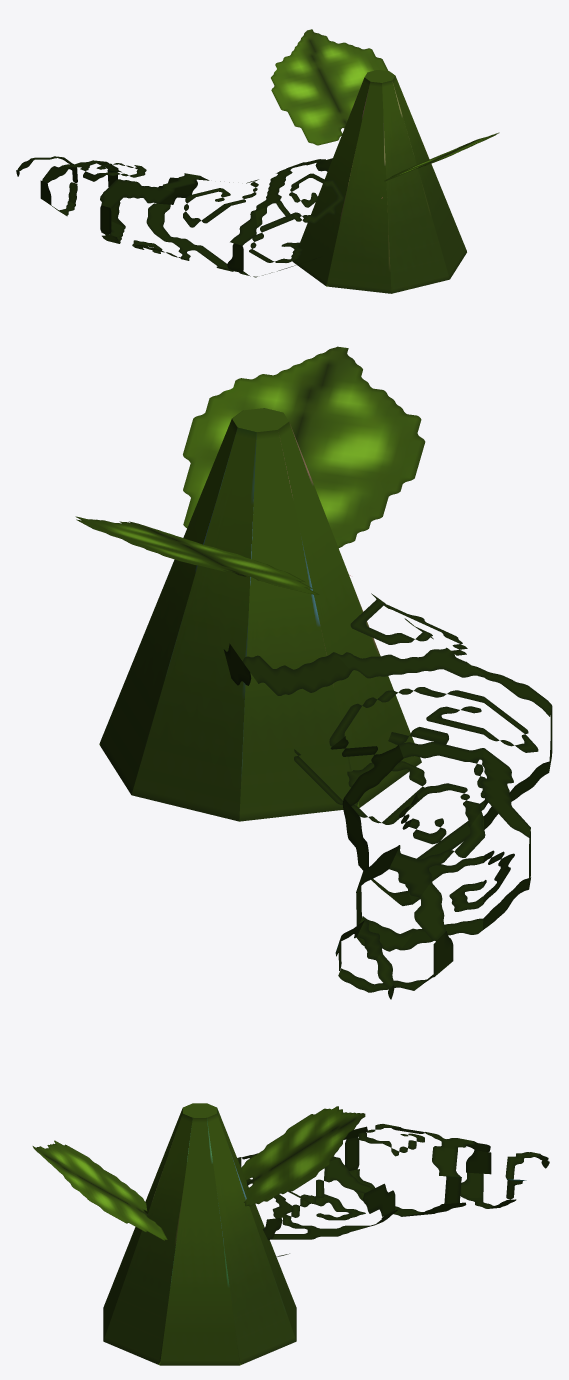
The model's file is Spade Melon Sprout.fbx.
The picture shows the model from 3 angles, top to bottom: view 1: azimuth 30°, elevation 25°; view 2: azimuth 150°, elevation 25°; view 3: azimuth 270°, elevation 25°; orthographic projection. The views are drawn at different scales.
Parts seen in each view (by area): view 1: MelonSprout; view 2: MelonSprout; view 3: MelonSprout.
Boxes of the visible parts, bbox=[...] form: MelonSprout: bbox=[16, 29, 499, 293]; MelonSprout: bbox=[75, 346, 552, 999]; MelonSprout: bbox=[32, 1103, 549, 1365].
Bounding box in the file's own units: 26.55 × 13.75 × 31.49.
1 material, 1 textured.
